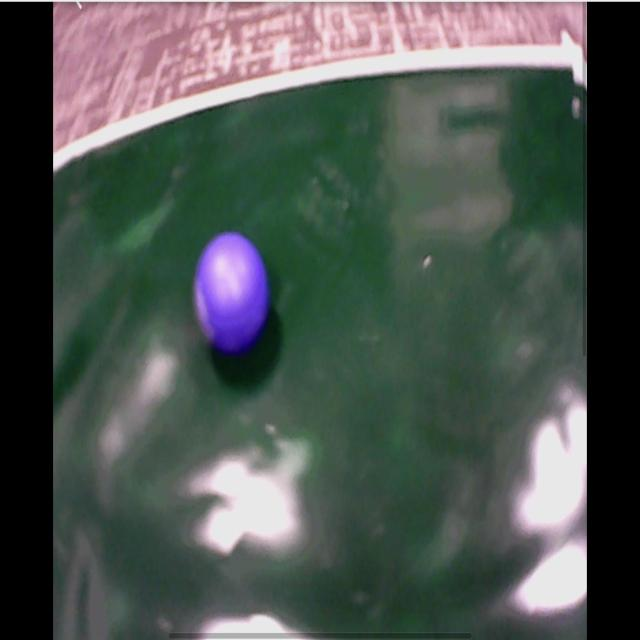ball: (196, 234, 270, 353)
